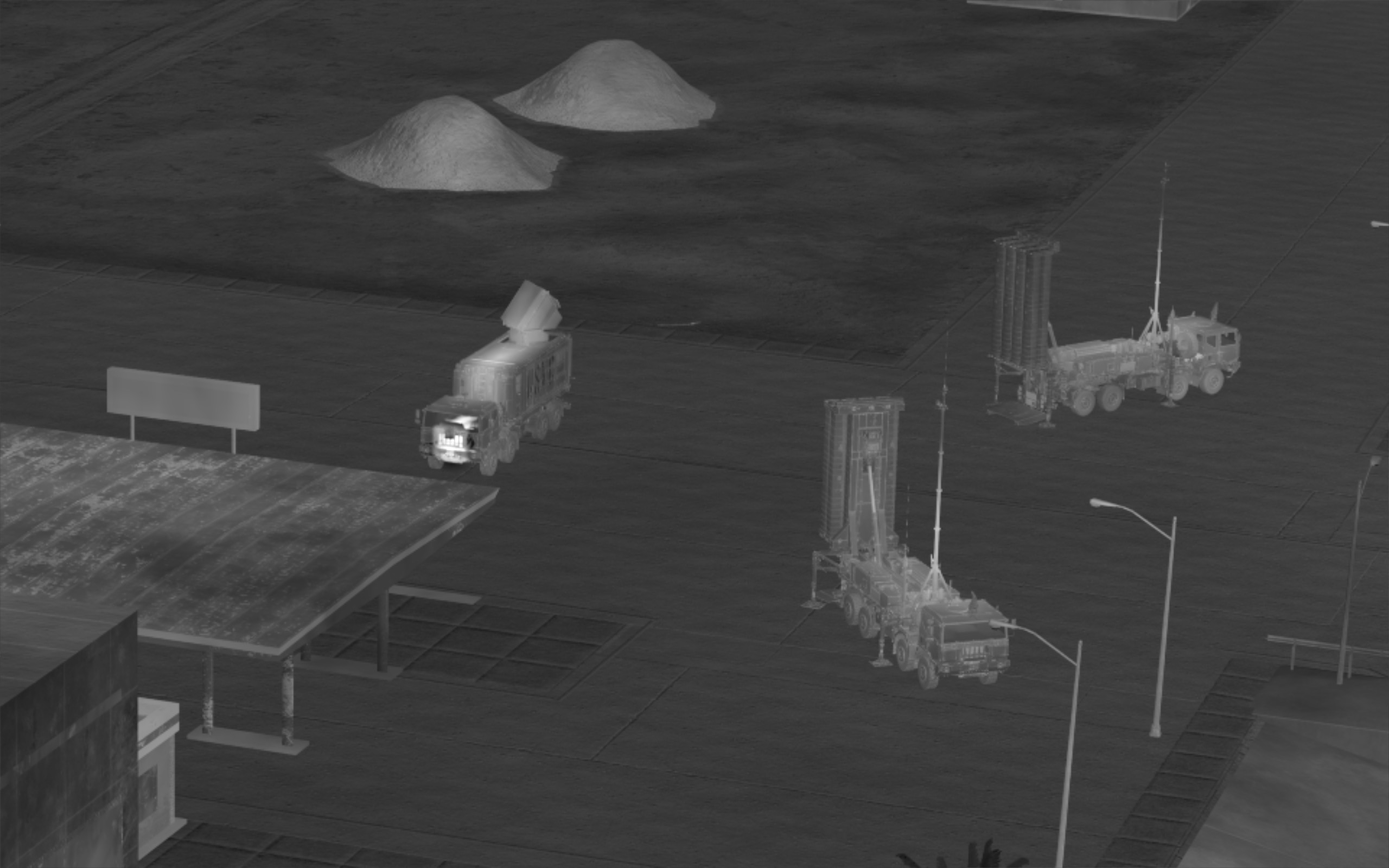spaa_TEL: (801, 395, 1010, 691), (978, 231, 1241, 429)
spaa_tads: (416, 279, 573, 476)
